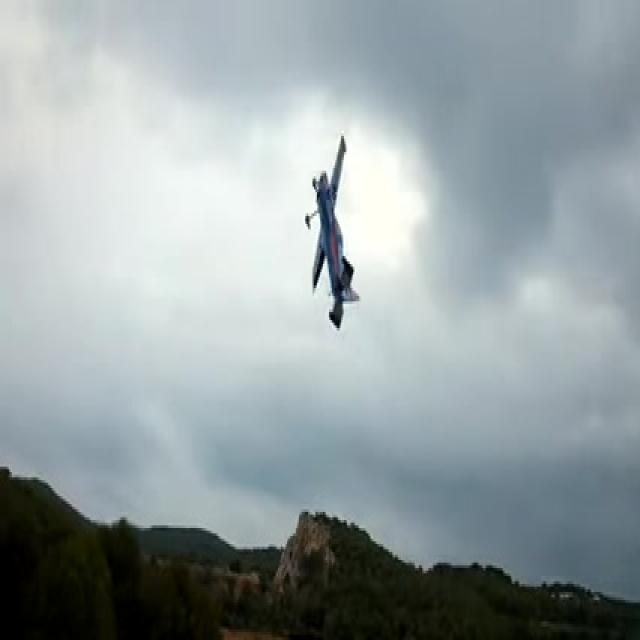iha: (304, 138, 361, 330)
